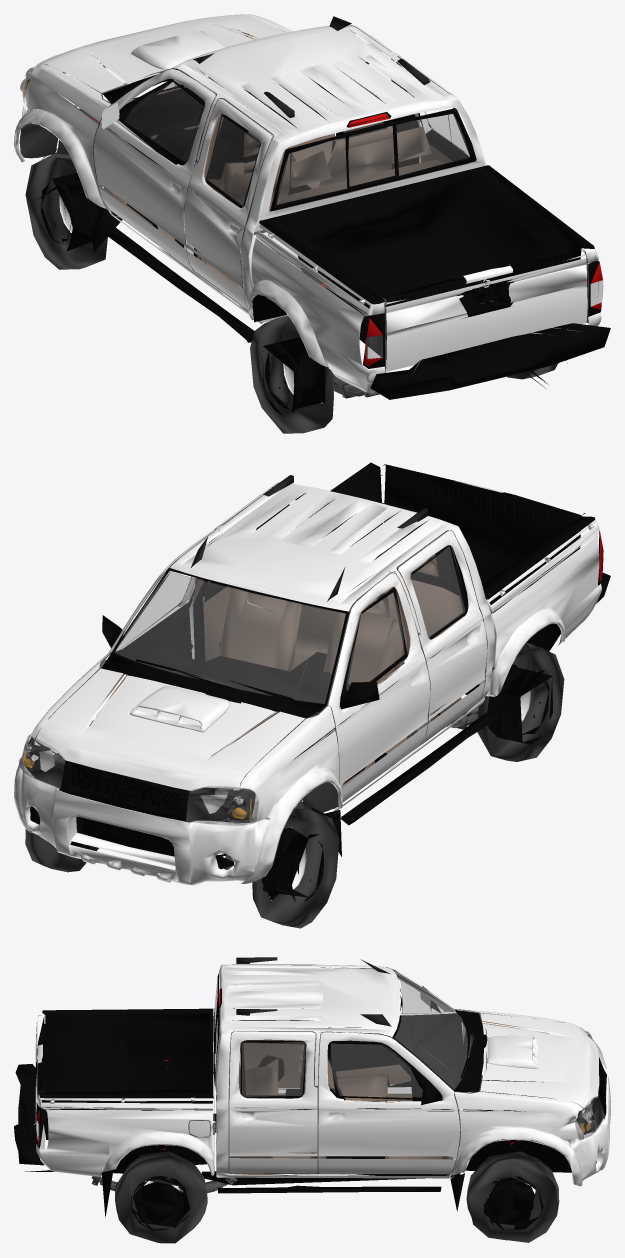
Rendered from frontier-npc.glb.
3 views of the same model, one above another, from view 1: azimuth 30°, elevation 25°; view 2: azimuth 150°, elevation 25°; view 3: azimuth 270°, elevation 25° (orthographic). The views are drawn at different scales.
Visible parts, largest first — view 1: body, trim, glass, metal; view 2: body, trim, glass, metal; view 3: body, trim, glass, metal.
Part boxes in pixels (x1,y1,x2,y2): body: (14,14,601,392); trim: (23,16,610,433); glass: (20,24,603,358); metal: (19,25,588,398); body: (14,481,601,885); trim: (23,462,610,928); glass: (19,538,603,825); metal: (26,464,585,889); body: (35,964,610,1186); trim: (14,957,606,1243); glass: (36,971,606,1140); metal: (36,964,583,1192).
Size of the model in its own units: 2.23 by 2.06 by 5.21.
